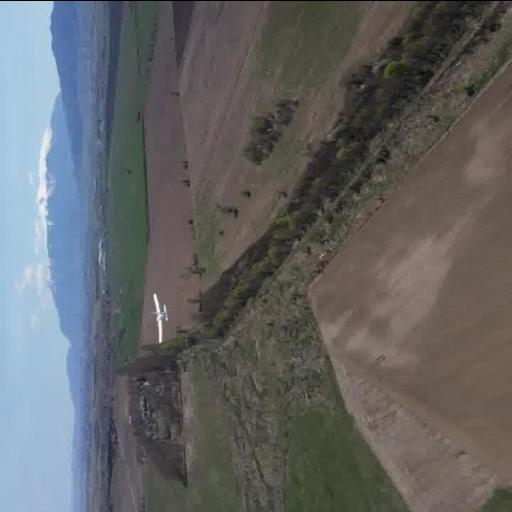uav: (144, 290, 182, 346)
